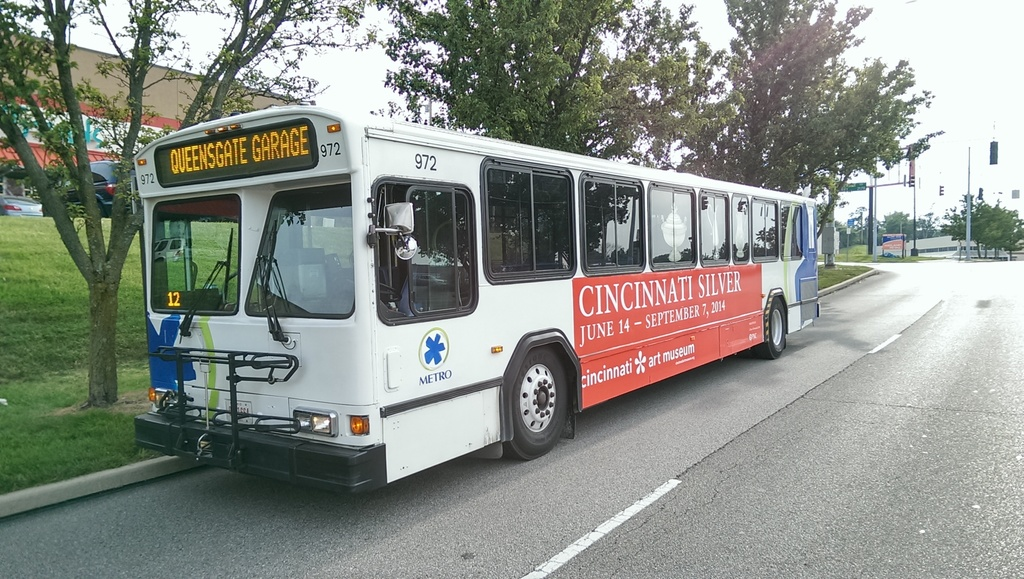Bus: (128, 99, 823, 501)
